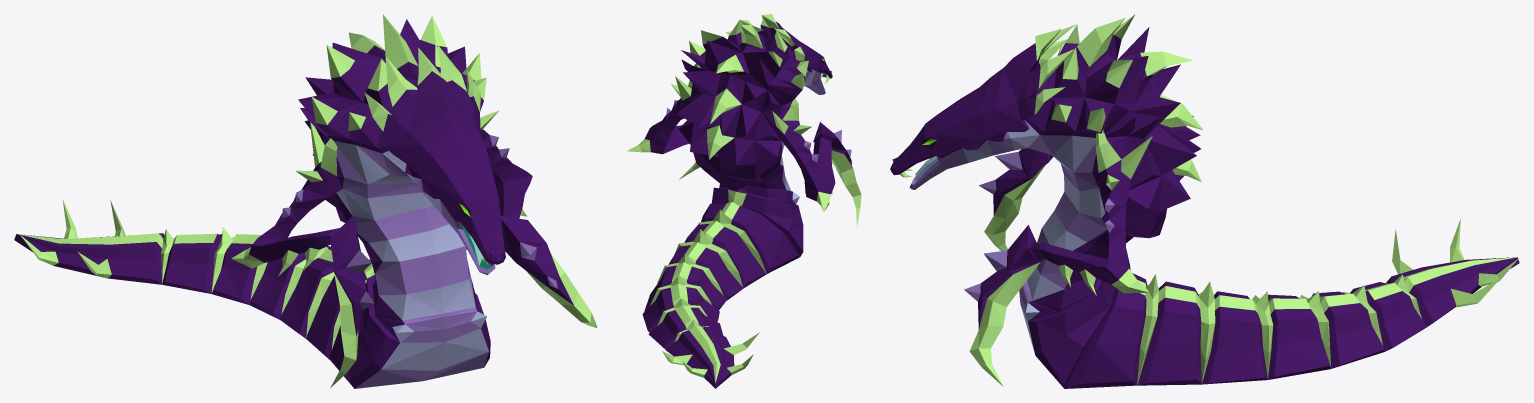
The model's file is Walk (10).obj.
3 views of the same model, side by side, from view 1: azimuth 30°, elevation 25°; view 2: azimuth 150°, elevation 25°; view 3: azimuth 270°, elevation 25° (orthographic). The views are drawn at different scales.
Visible parts, largest first — view 1: Alien_Serpent; view 2: Alien_Serpent; view 3: Alien_Serpent.
Part boxes in pixels (x1,y1,x2,y2): Alien_Serpent: (14, 14, 597, 388); Alien_Serpent: (627, 14, 861, 388); Alien_Serpent: (890, 14, 1519, 388).
Size of the model in its own units: 224 by 217 by 365.
Materials: 1 (1 with a texture image).
